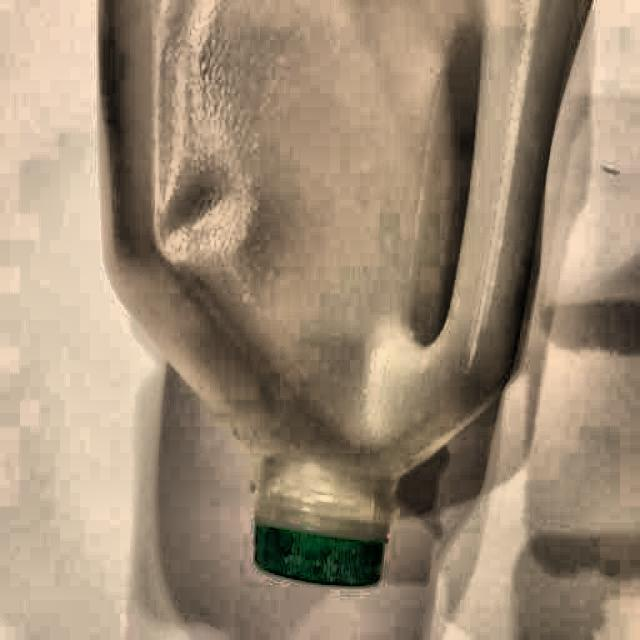plastic: (94, 0, 589, 588)
